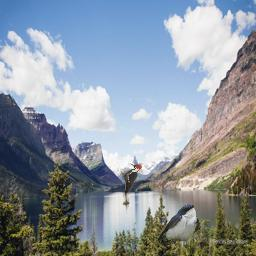Swallow: (156, 204, 201, 249)
Woodpecker: (120, 163, 142, 200)
